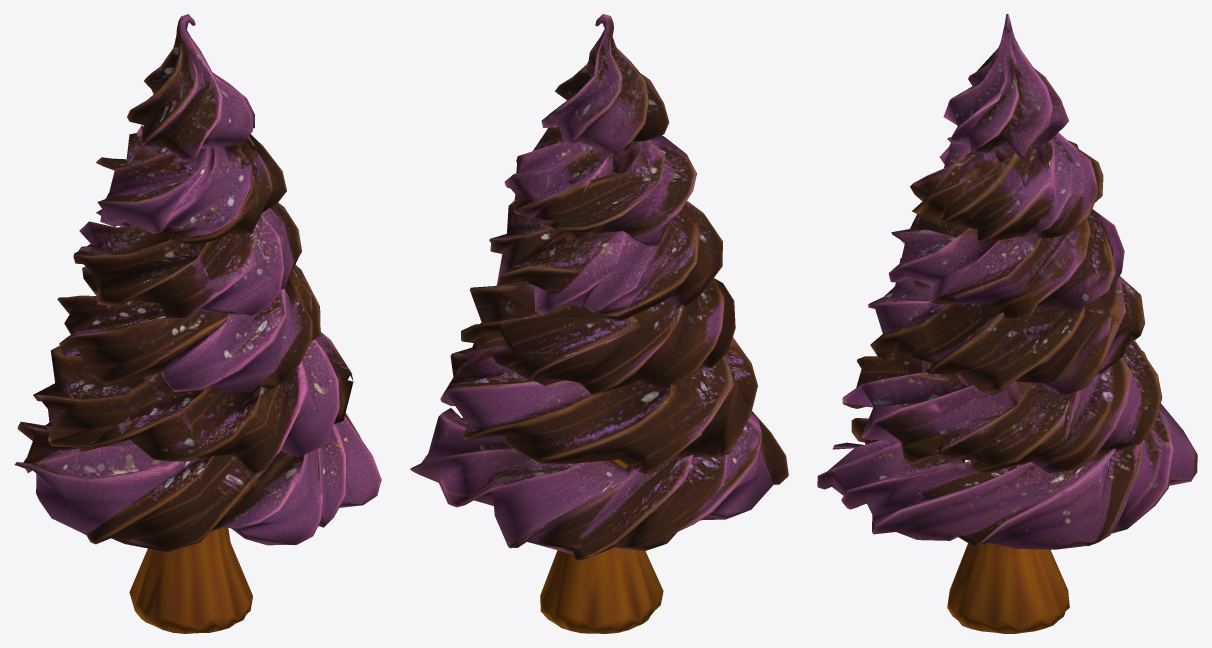
The model's file is AW-HW-SPRUCE-001-v0.2.glb.
3 views of the same model, side by side, from view 1: azimuth 30°, elevation 25°; view 2: azimuth 150°, elevation 25°; view 3: azimuth 270°, elevation 25° (orthographic).
Parts seen in each view (by area): view 1: AW-HW-SPRUCE-001_meter_ground_pivot; view 2: AW-HW-SPRUCE-001_meter_ground_pivot; view 3: AW-HW-SPRUCE-001_meter_ground_pivot.
Part boxes in pixels (x1,y1,x2,y2): AW-HW-SPRUCE-001_meter_ground_pivot: [14, 14, 381, 633]; AW-HW-SPRUCE-001_meter_ground_pivot: [410, 14, 788, 633]; AW-HW-SPRUCE-001_meter_ground_pivot: [817, 14, 1197, 633].
Bounding box in the file's own units: 2.15 × 4 × 2.32.
Materials: 1 (1 with a texture image).
